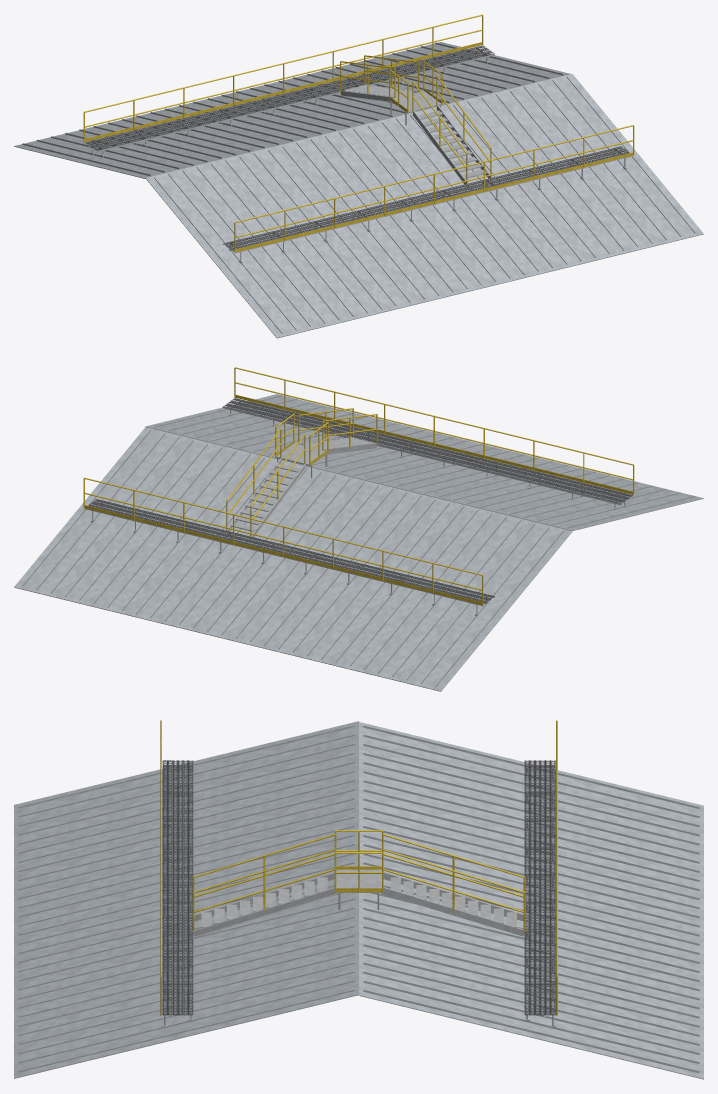
The model's file is rooftop-walkway.glb.
3 renders of one model, top to bottom at view 1: azimuth 30°, elevation 25°; view 2: azimuth 150°, elevation 25°; view 3: azimuth 270°, elevation 25°, orthographic. The views are drawn at different scales.
Parts seen in each view (by area): view 1: Roof(context), Handrails, Anti-SlipFace, Grip-StrutWalkway, Stairs&RidgeCrossover, SeamClamps&Posts; view 2: Roof(context), Handrails, Anti-SlipFace, Grip-StrutWalkway, Stairs&RidgeCrossover, SeamClamps&Posts; view 3: Roof(context), Anti-SlipFace, Stairs&RidgeCrossover, Handrails, SeamClamps&Posts, Grip-StrutWalkway.
Part boxes in pixels (box(x1,y1,x2,y2)): Roof(context): box(14, 42, 703, 338); Handrails: box(83, 14, 634, 252); Anti-SlipFace: box(85, 45, 628, 251); Grip-StrutWalkway: box(84, 45, 632, 253); Stairs&RidgeCrossover: box(339, 84, 492, 187); SeamClamps&Posts: box(91, 47, 626, 263); Roof(context): box(14, 394, 703, 691); Handrails: box(83, 367, 634, 605); Anti-SlipFace: box(88, 398, 632, 604); Grip-StrutWalkway: box(84, 398, 632, 606); Stairs&RidgeCrossover: box(227, 437, 376, 540); SeamClamps&Posts: box(91, 400, 626, 616); Roof(context): box(14, 721, 703, 1079); Anti-SlipFace: box(162, 760, 555, 1015); Stairs&RidgeCrossover: box(192, 869, 524, 937); Handrails: box(160, 720, 557, 1015); SeamClamps&Posts: box(162, 765, 555, 1028); Grip-StrutWalkway: box(162, 760, 555, 1017).
Size of the model in its own units: 15 by 3.53 by 16.01.
Materials: 5 (5 with a texture image).
